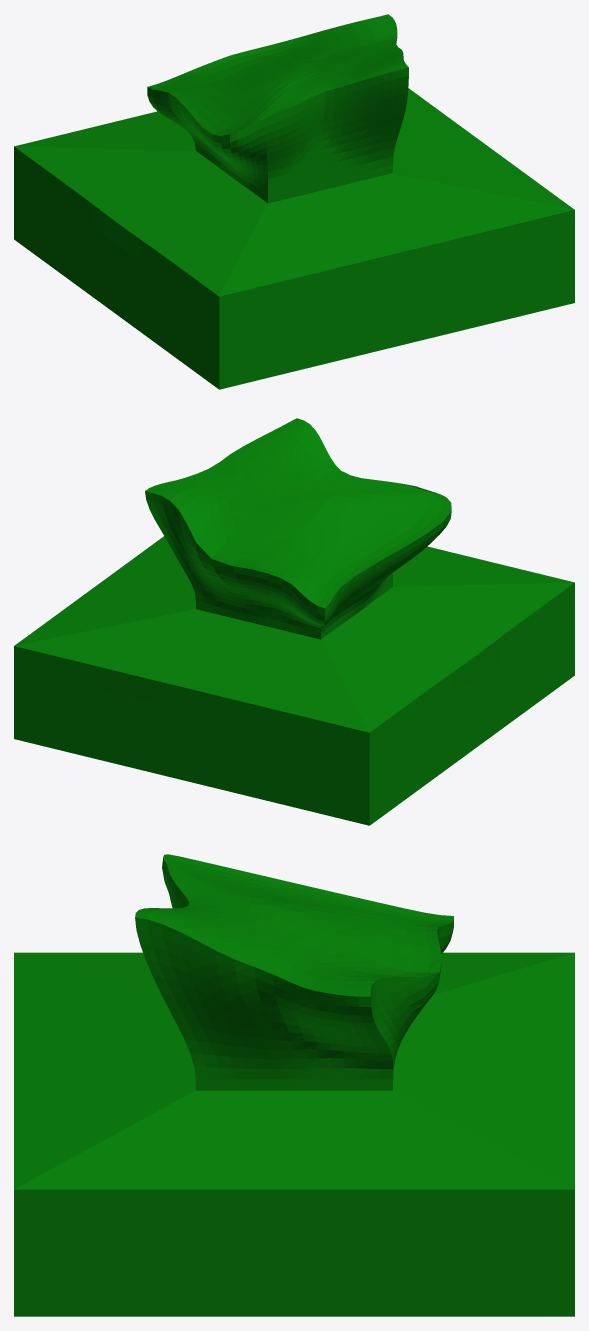
The model's file is testworld.glb.
The picture shows the model from 3 angles, top to bottom: view 1: azimuth 30°, elevation 25°; view 2: azimuth 150°, elevation 25°; view 3: azimuth 270°, elevation 25°; orthographic projection. The views are drawn at different scales.
Visible parts, largest first — view 1: Cube; view 2: Cube; view 3: Cube.
Boxes of the visible parts, left/top/right/bottom form: Cube: left=14, top=14, right=574, bottom=389; Cube: left=14, top=418, right=574, bottom=825; Cube: left=14, top=854, right=574, bottom=1316.
Bounding box in the file's own units: 570 × 356 × 569.
